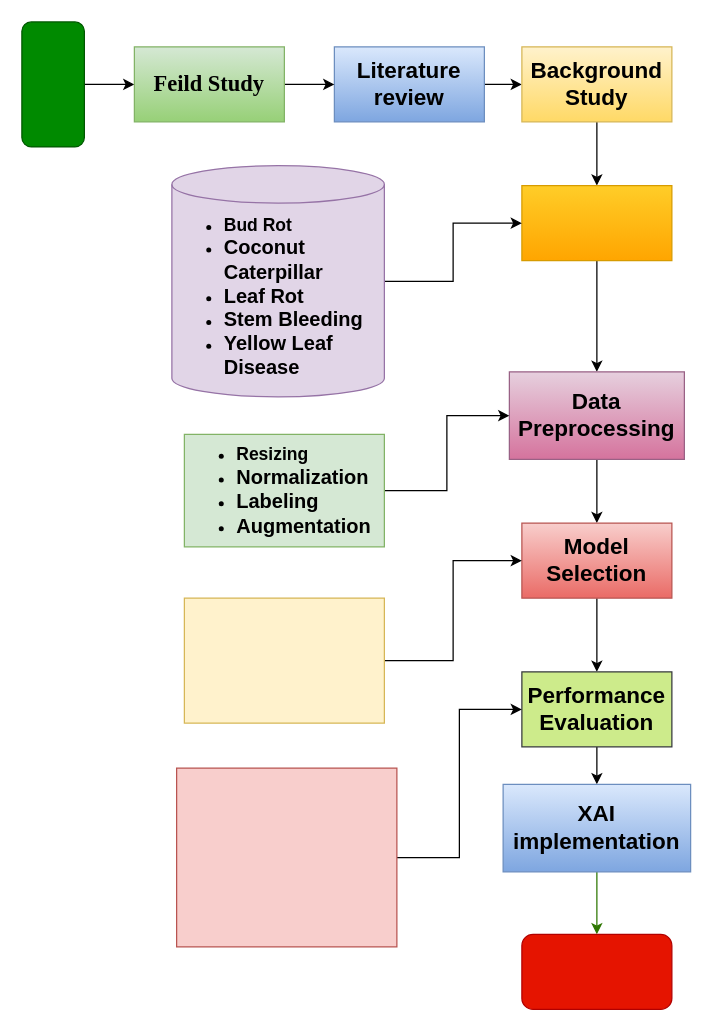
This 713x1031 diagram has some shape labels left out. The shapes that lost their labels are listed below. From the top down, each one's centre as x and y in pixels, then its label:
At (52,84): "Start".
At (596,222): "Data Collection".
At (283,660): "DenseNet121 ResNet50 MobileNetV2 MobileNetV3 Xception".
At (286,857): "Confusion Matrix Accuracy Precision Recall F1 Score Accuracy/Loss Curves".
At (596,971): "End".
